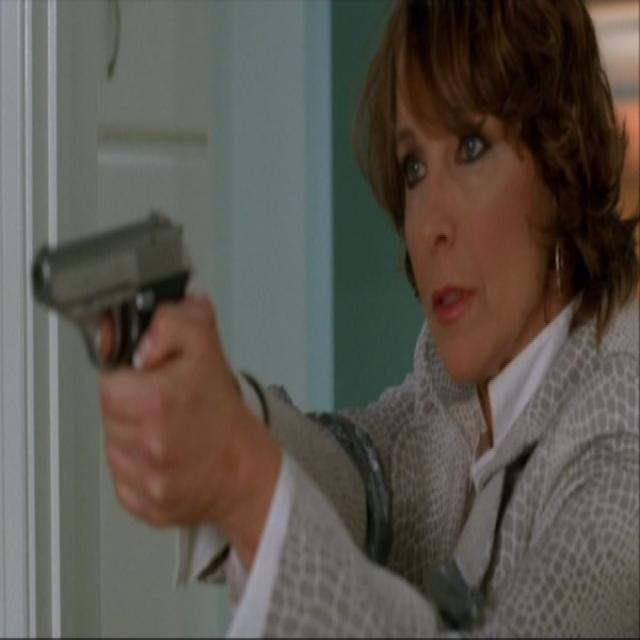weapons: (26, 158, 206, 455)
